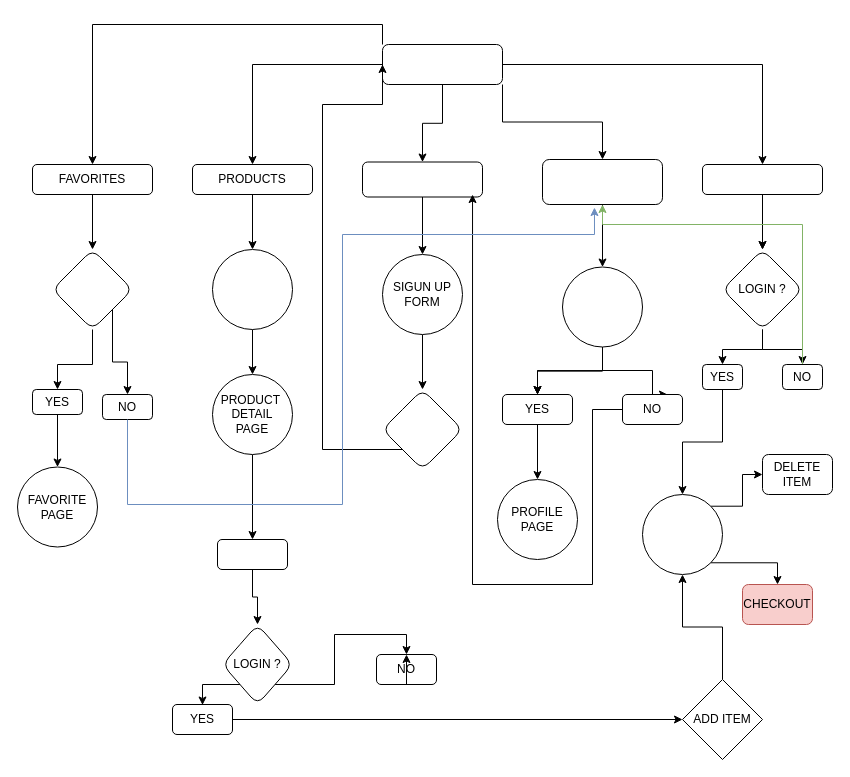
The diagram is 850 pixels wide and 777 high, and some of its shapes have lost their labels. The shapes that lost their labels are listed below. From the top down, each one's box as (x1, y1, x2, y2) in pixels, then its label:
(382, 44, 502, 84): HOME PAGE
(362, 161, 482, 197): SIGN UP
(542, 158, 662, 204): LOGIN
(702, 164, 822, 194): CART
(52, 248, 132, 330): IS LOGIN ?
(212, 248, 292, 330): PRODUCTS PAGE
(562, 266, 642, 347): LOGIN FORM
(382, 388, 462, 470): ADD TO DB
(216, 538, 288, 570): ADD TO CART
(642, 494, 722, 574): CART PAGE
